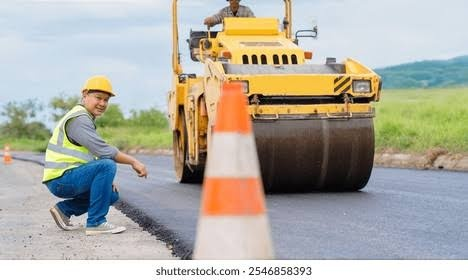hardhat: (76, 78, 125, 101)
machinery: (160, 2, 439, 191)
person: (34, 77, 155, 236)
safety_cone: (197, 80, 282, 259), (3, 141, 16, 167)
safety_vest: (40, 105, 105, 190)
